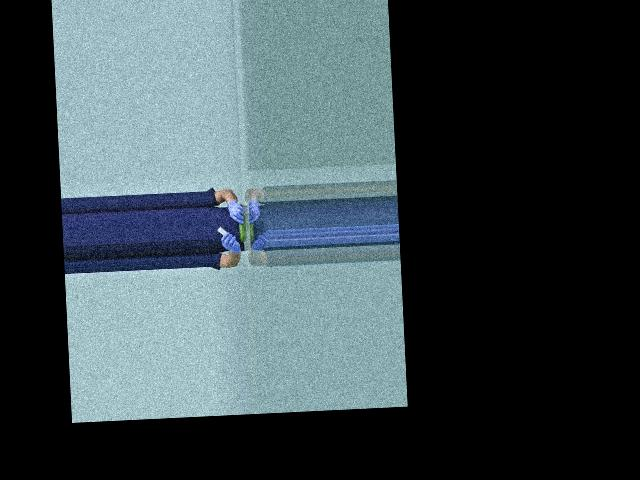cucumber: (238, 215, 247, 243)
